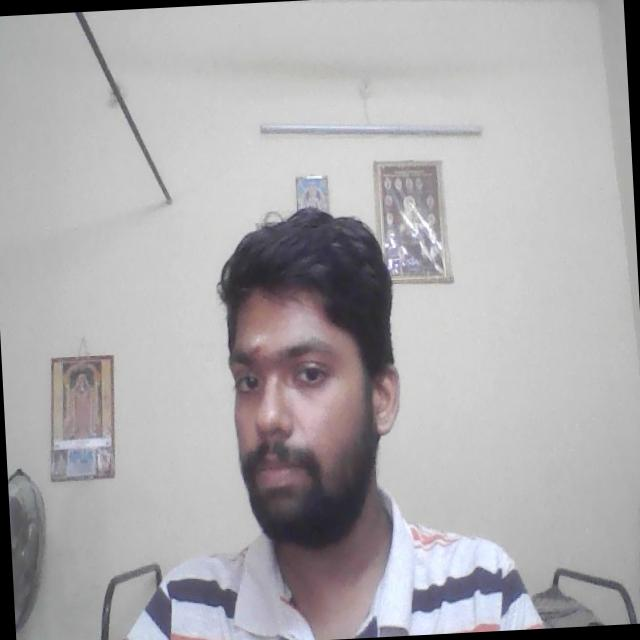Focused: (219, 302, 362, 510)
